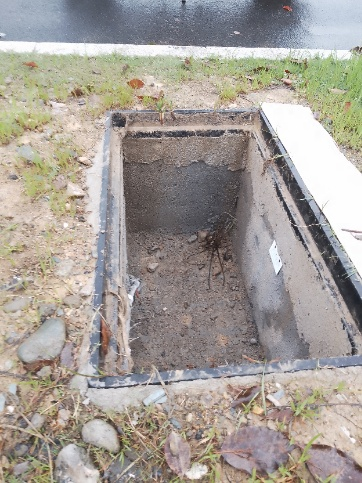lose: (86, 105, 362, 389)
